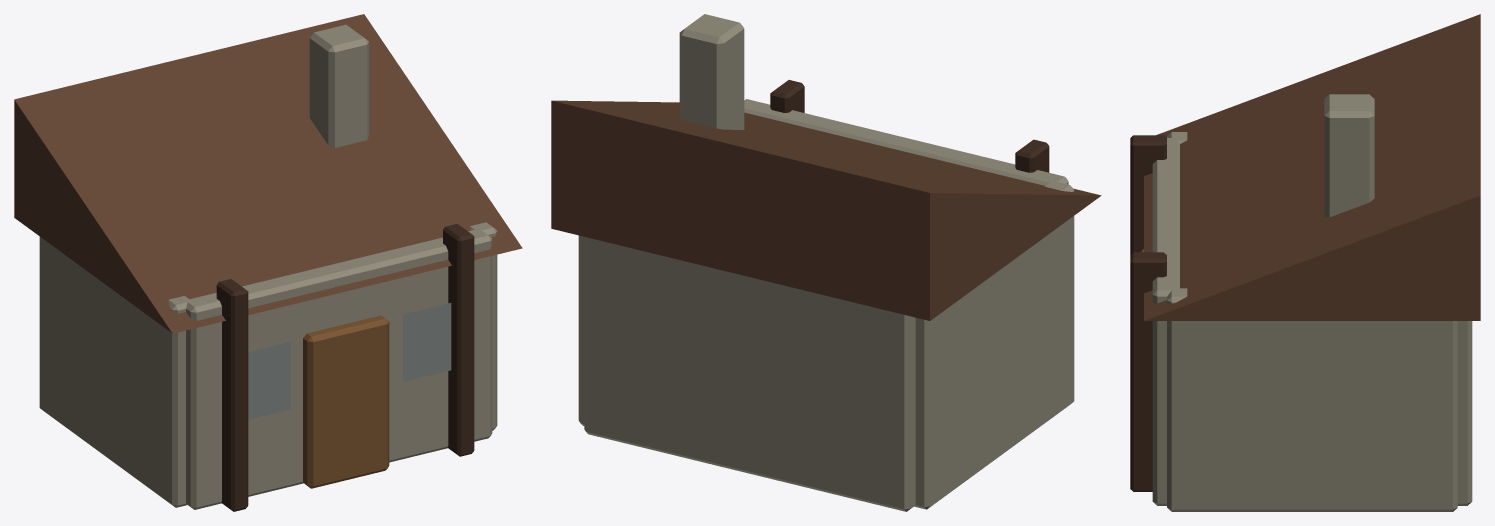
File: cottage.rustic.glb
3 renders of one model, left to right at view 1: azimuth 30°, elevation 25°; view 2: azimuth 150°, elevation 25°; view 3: azimuth 270°, elevation 25°, orthographic. The views are drawn at different scales.
Parts seen in each view (by area): view 1: roof.main, wall.front, wall.left, door.front, chimney, timber.left, timber.right, window.right, window.left, wall.right; view 2: roof.main, wall.back, wall.left, chimney, wall.front, wall.right, timber.left, timber.right; view 3: roof.main, wall.right, wall.front, chimney, timber.right, wall.back, timber.left.
Boxes of the visible parts, x1,y1,x2,y2 form: roof.main: [14, 14, 522, 333]; wall.front: [186, 228, 492, 509]; wall.left: [39, 236, 191, 507]; door.front: [303, 315, 389, 488]; chimney: [309, 24, 369, 147]; timber.left: [216, 279, 248, 511]; timber.right: [443, 223, 474, 456]; window.right: [403, 303, 451, 381]; window.left: [248, 342, 290, 419]; wall.right: [470, 222, 497, 430]; roof.main: [551, 100, 1101, 320]; wall.back: [584, 237, 915, 511]; wall.left: [914, 181, 1074, 509]; chimney: [679, 14, 744, 129]; wall.front: [744, 99, 1068, 185]; wall.right: [578, 235, 584, 425]; timber.left: [1015, 139, 1049, 172]; timber.right: [770, 80, 804, 112]; roof.main: [1144, 14, 1480, 320]; wall.right: [1167, 288, 1457, 511]; wall.front: [1152, 138, 1179, 505]; chimney: [1324, 94, 1374, 217]; timber.right: [1130, 252, 1166, 491]; wall.back: [1457, 321, 1472, 505]; timber.left: [1130, 135, 1166, 254].
Size of the model in its own units: 3.25 by 3.12 by 2.65.
